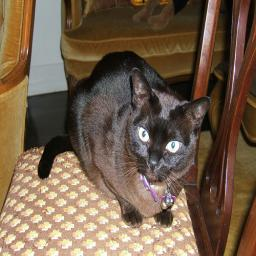catnose: (147, 156, 161, 174)
